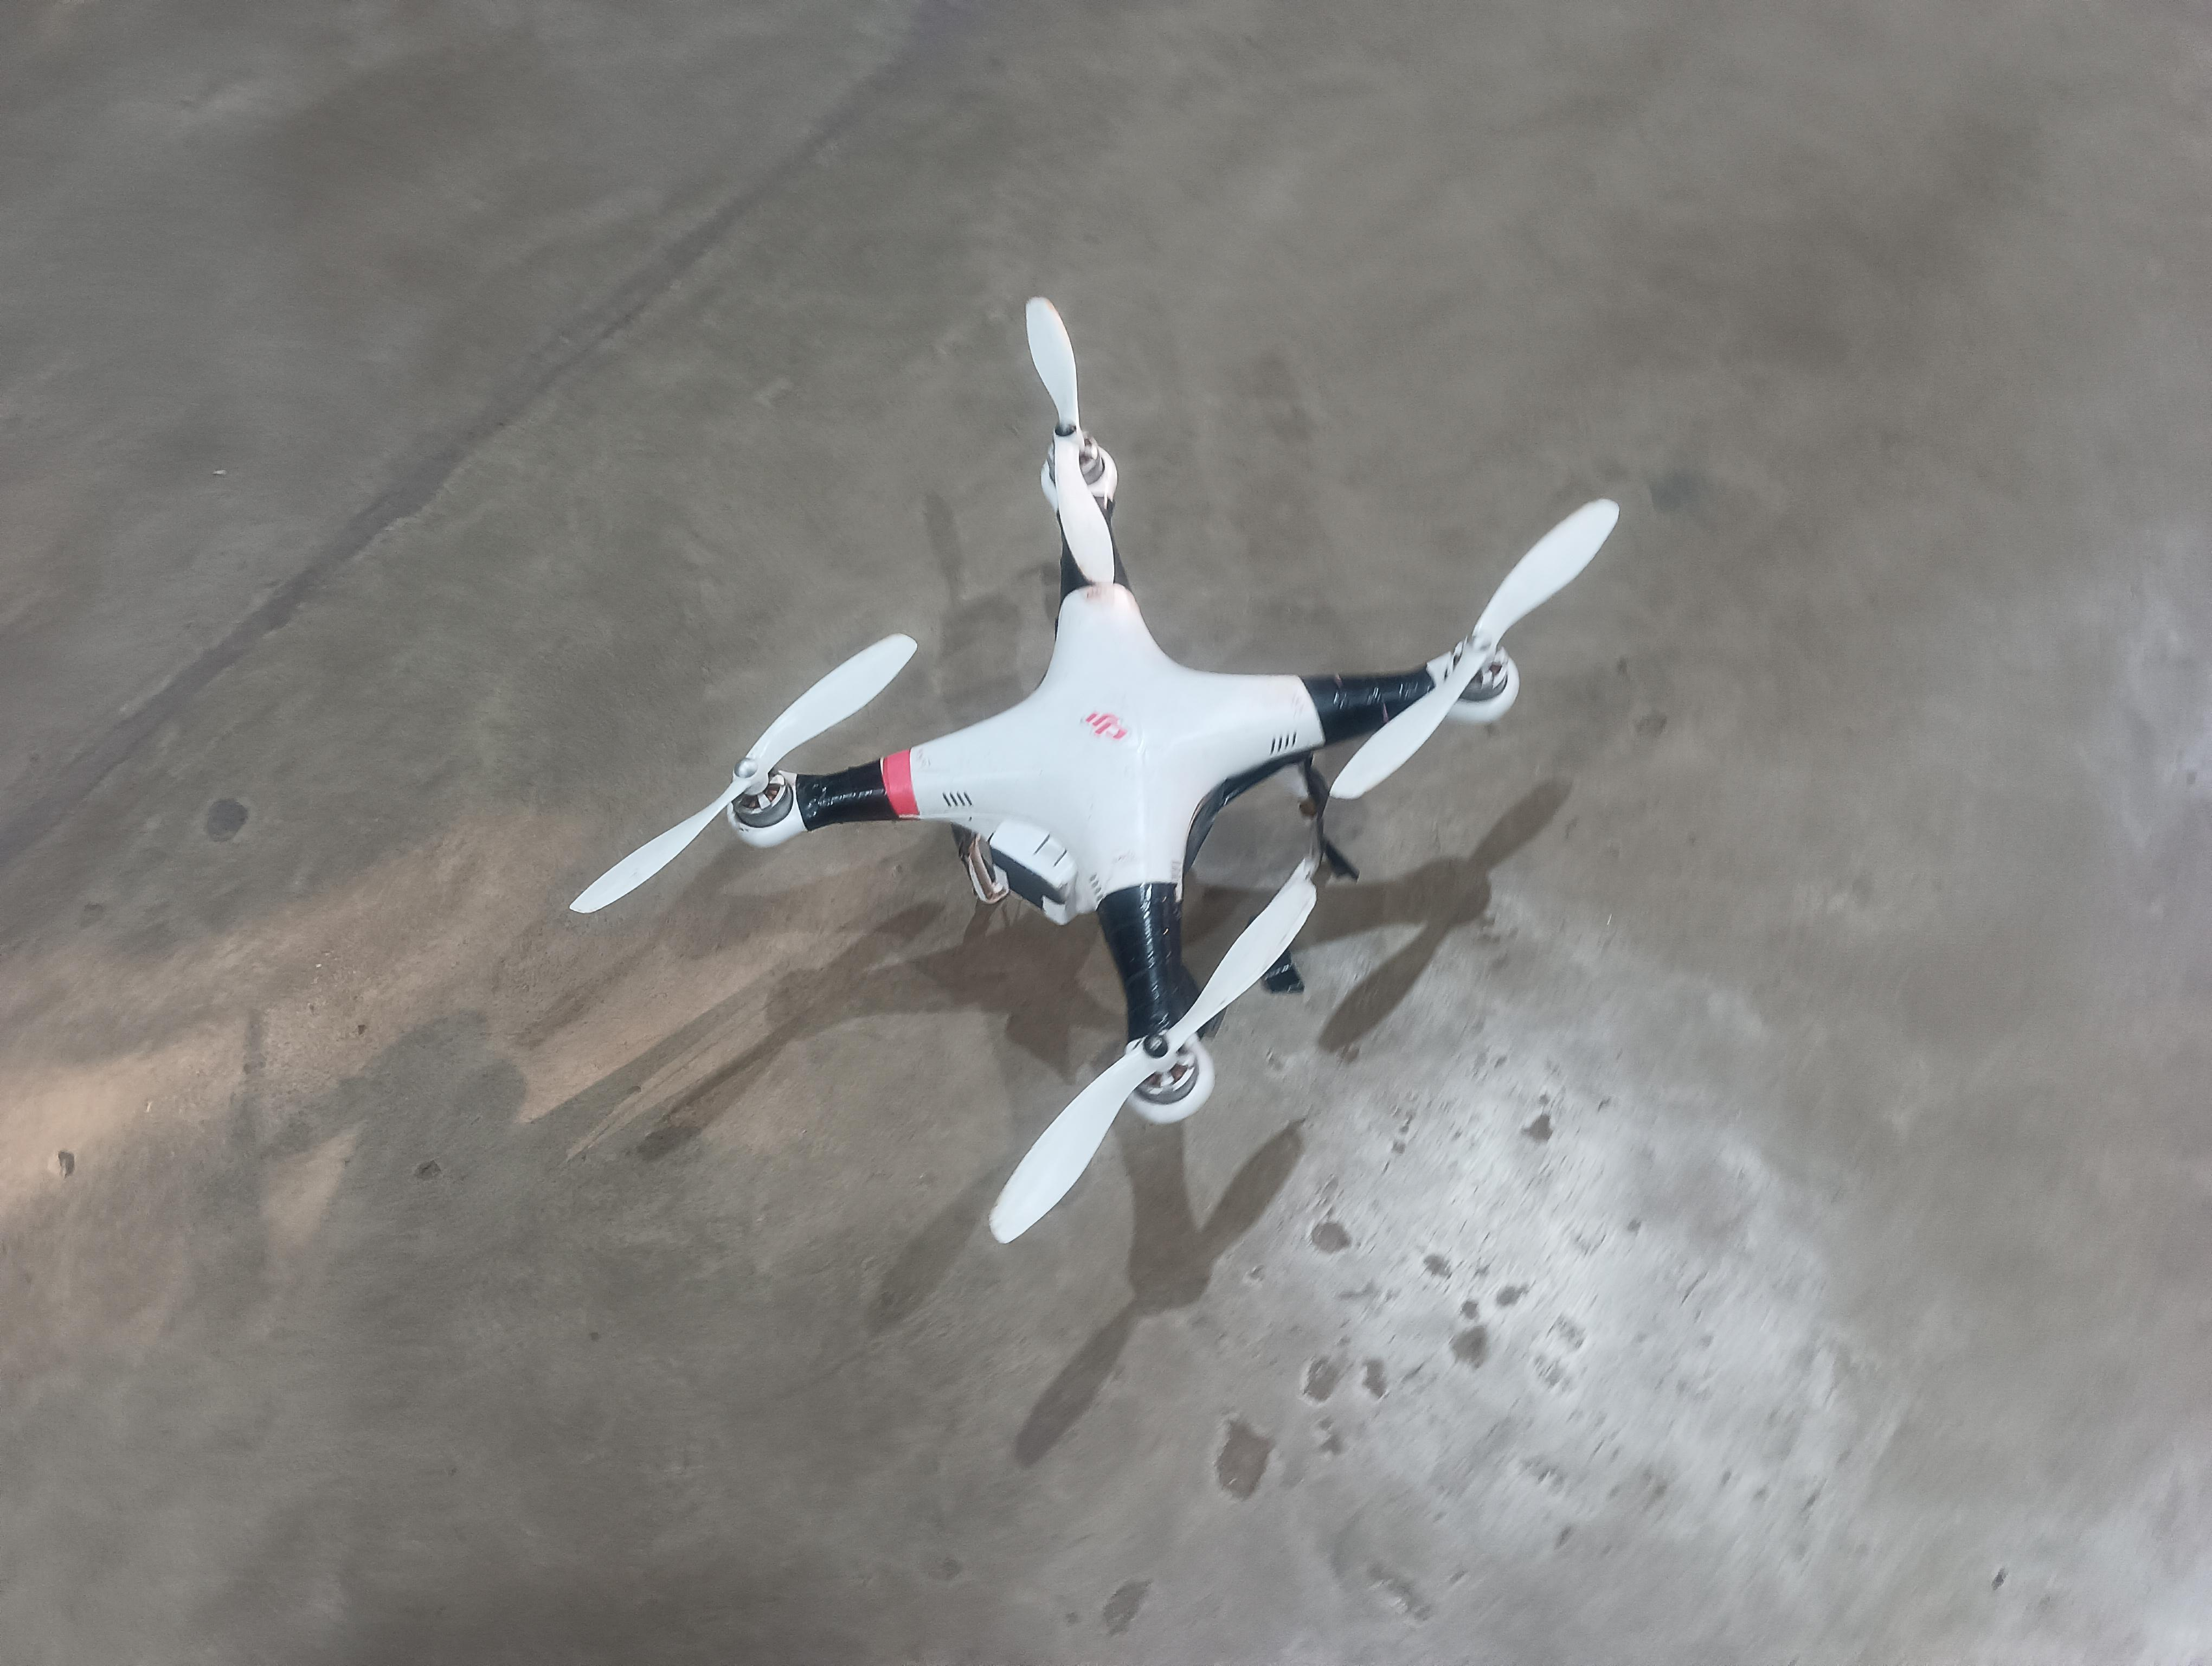drone: (456, 266, 1689, 1272)
